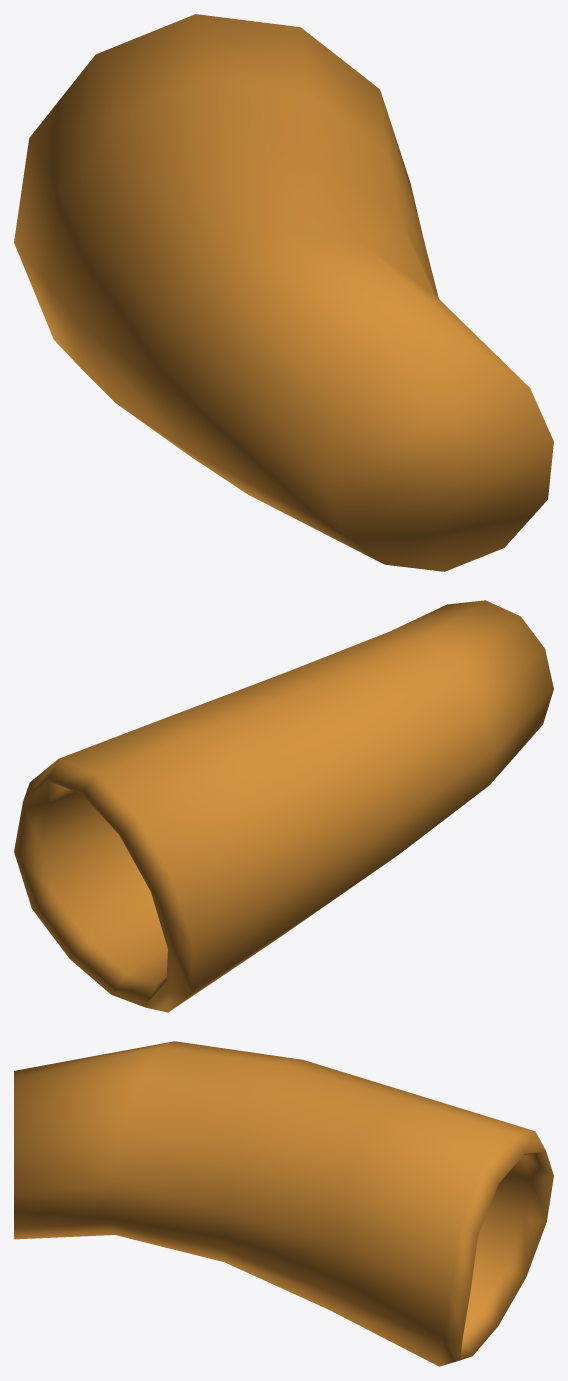
Rendered from coral01d.fbx.
3 renders of one model, top to bottom at view 1: azimuth 30°, elevation 25°; view 2: azimuth 150°, elevation 25°; view 3: azimuth 270°, elevation 25°, orthographic. The views are drawn at different scales.
Parts seen in each view (by area): view 1: Coral01d; view 2: Coral01d; view 3: Coral01d.
Boxes of the visible parts, x1,y1,x2,y2 form: Coral01d: [14, 14, 553, 571]; Coral01d: [14, 600, 553, 1012]; Coral01d: [14, 1041, 553, 1366].
Bounding box in the file's own units: 243 × 198 × 382.
